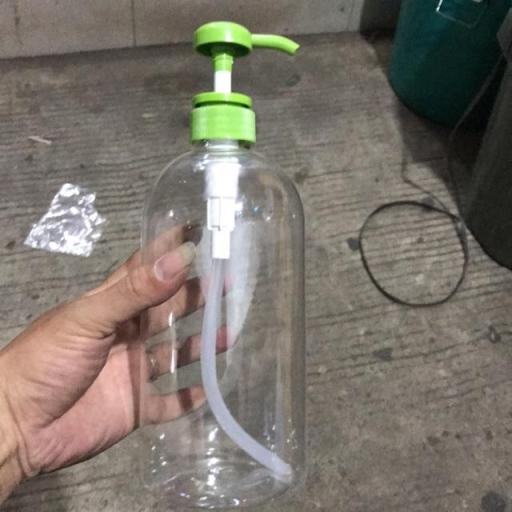plastic: (130, 17, 322, 512)
